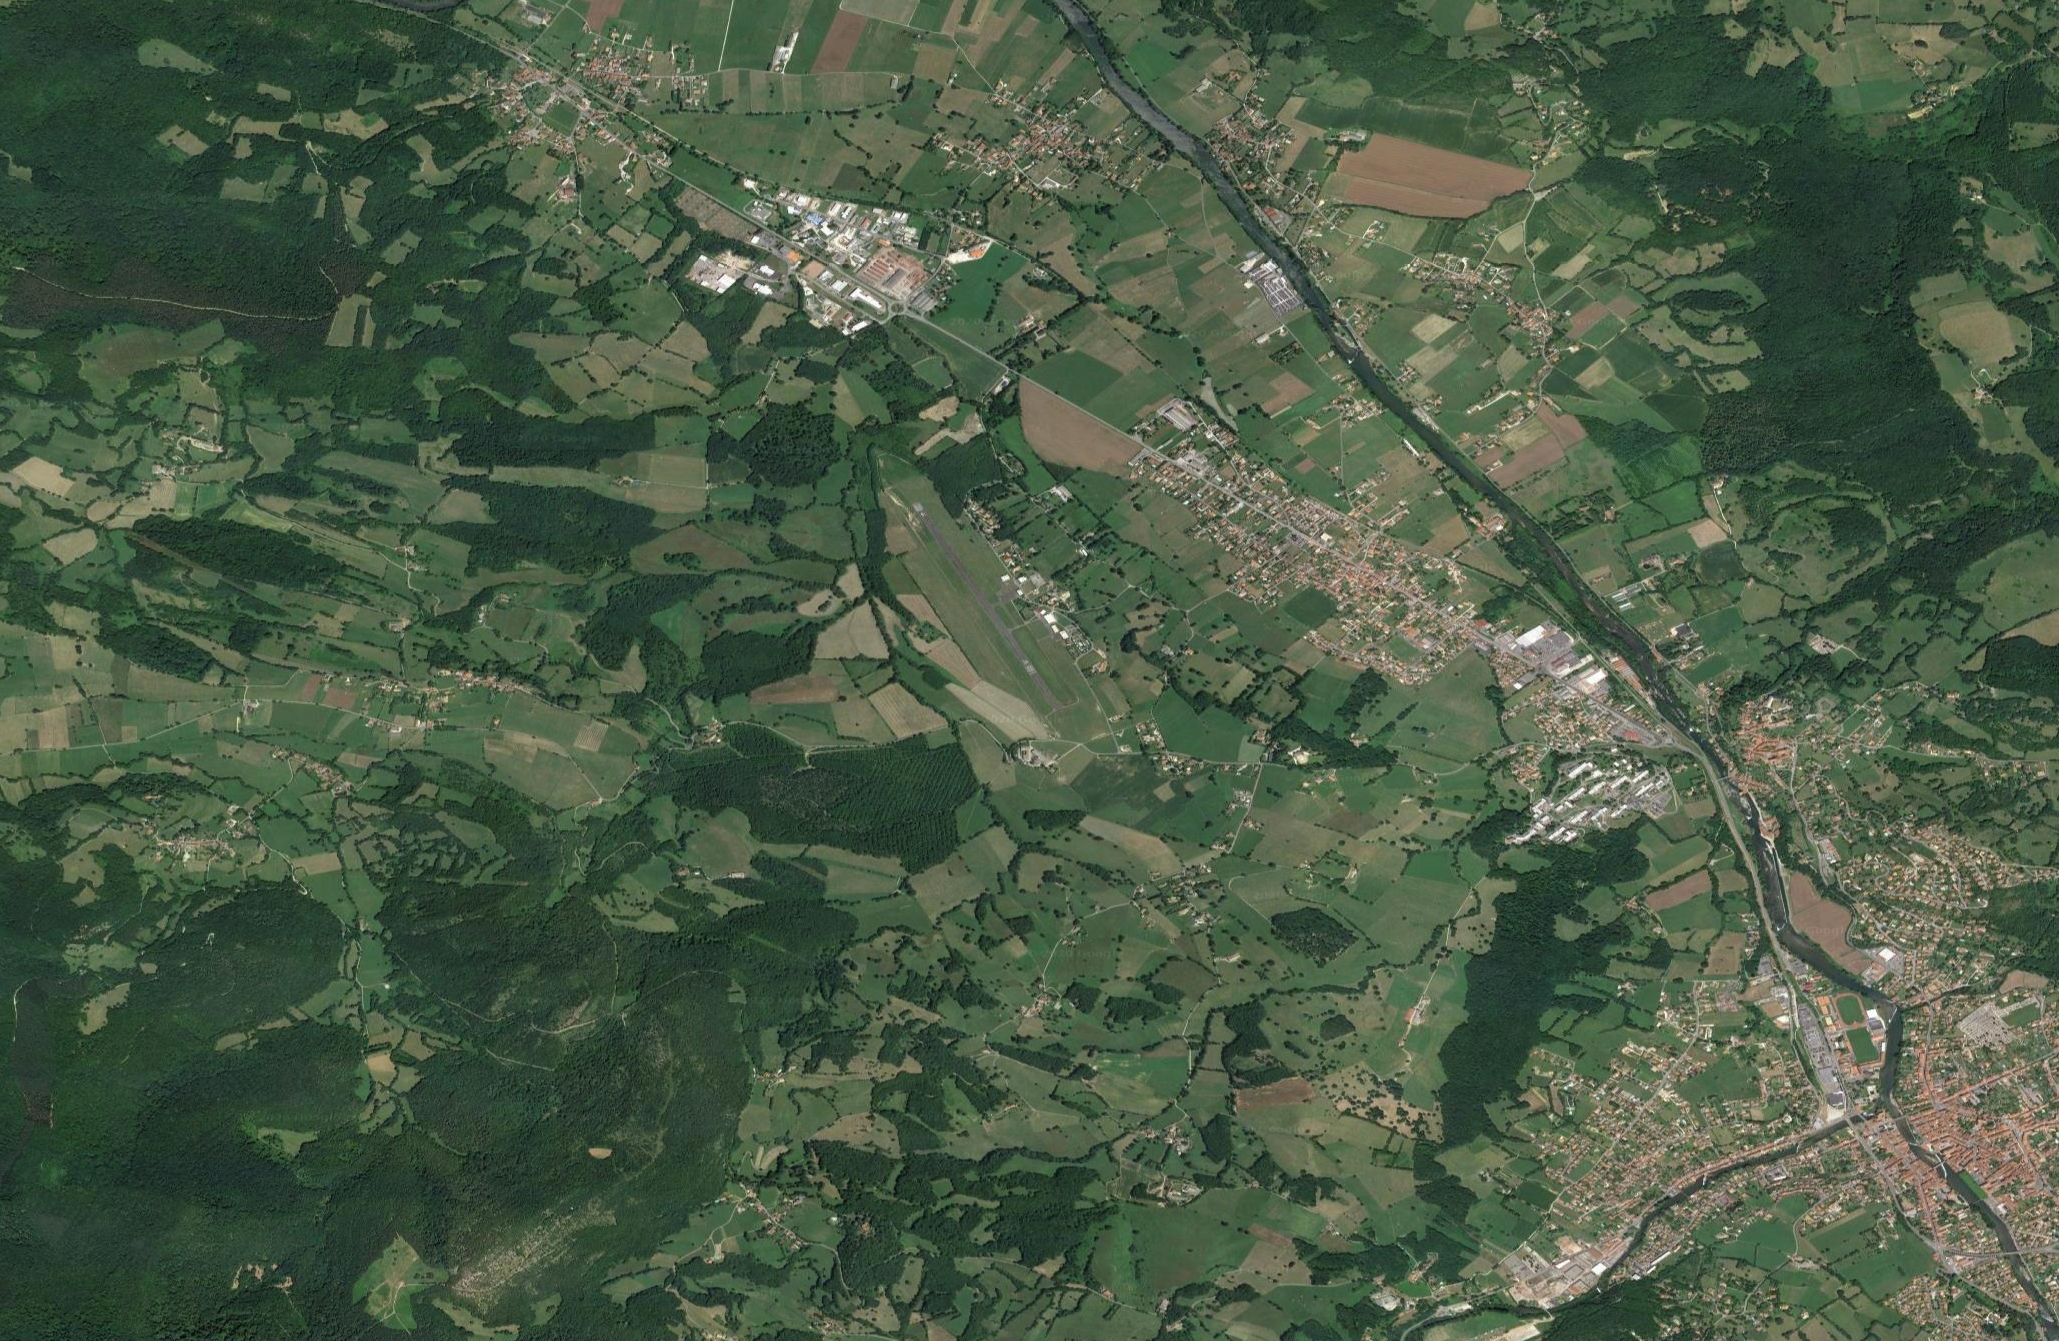airport: (911, 499, 1069, 739)
